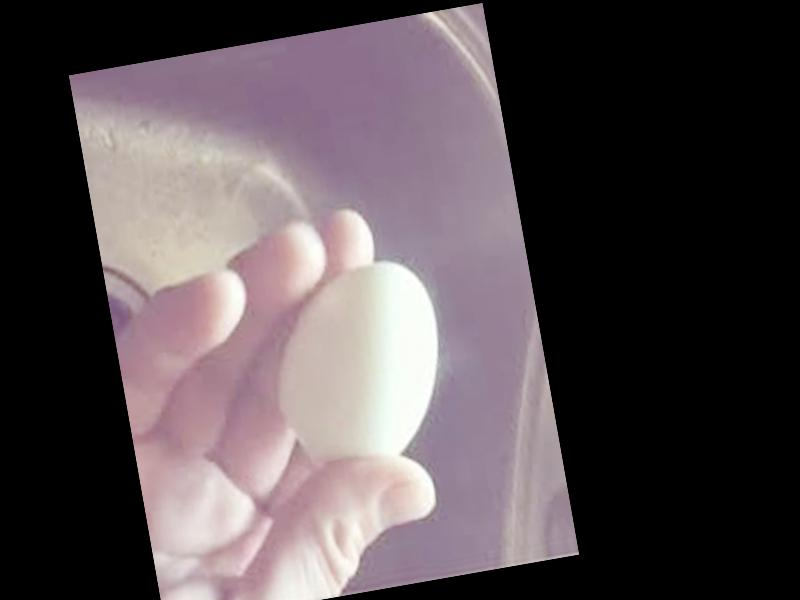Eggs: (261, 253, 457, 474)
